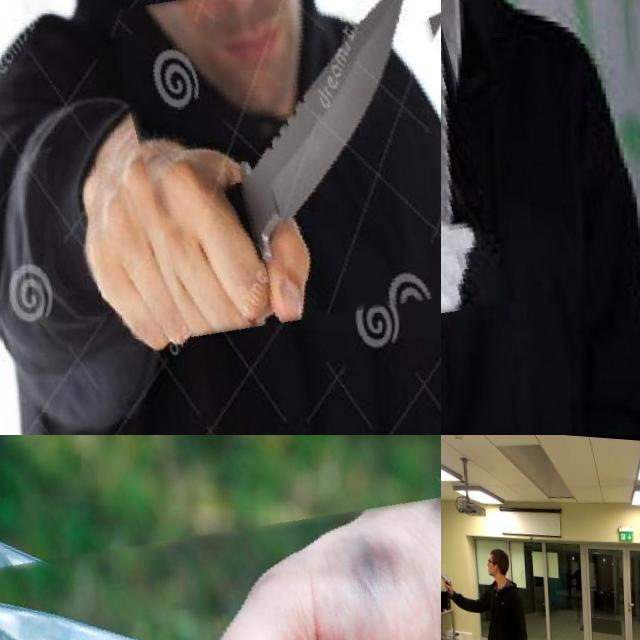-: (116, 0, 441, 334), (0, 487, 441, 640), (441, 0, 513, 312)
gun-knife-thesis - v11 Yolov5 augmented: (441, 562, 451, 599)
